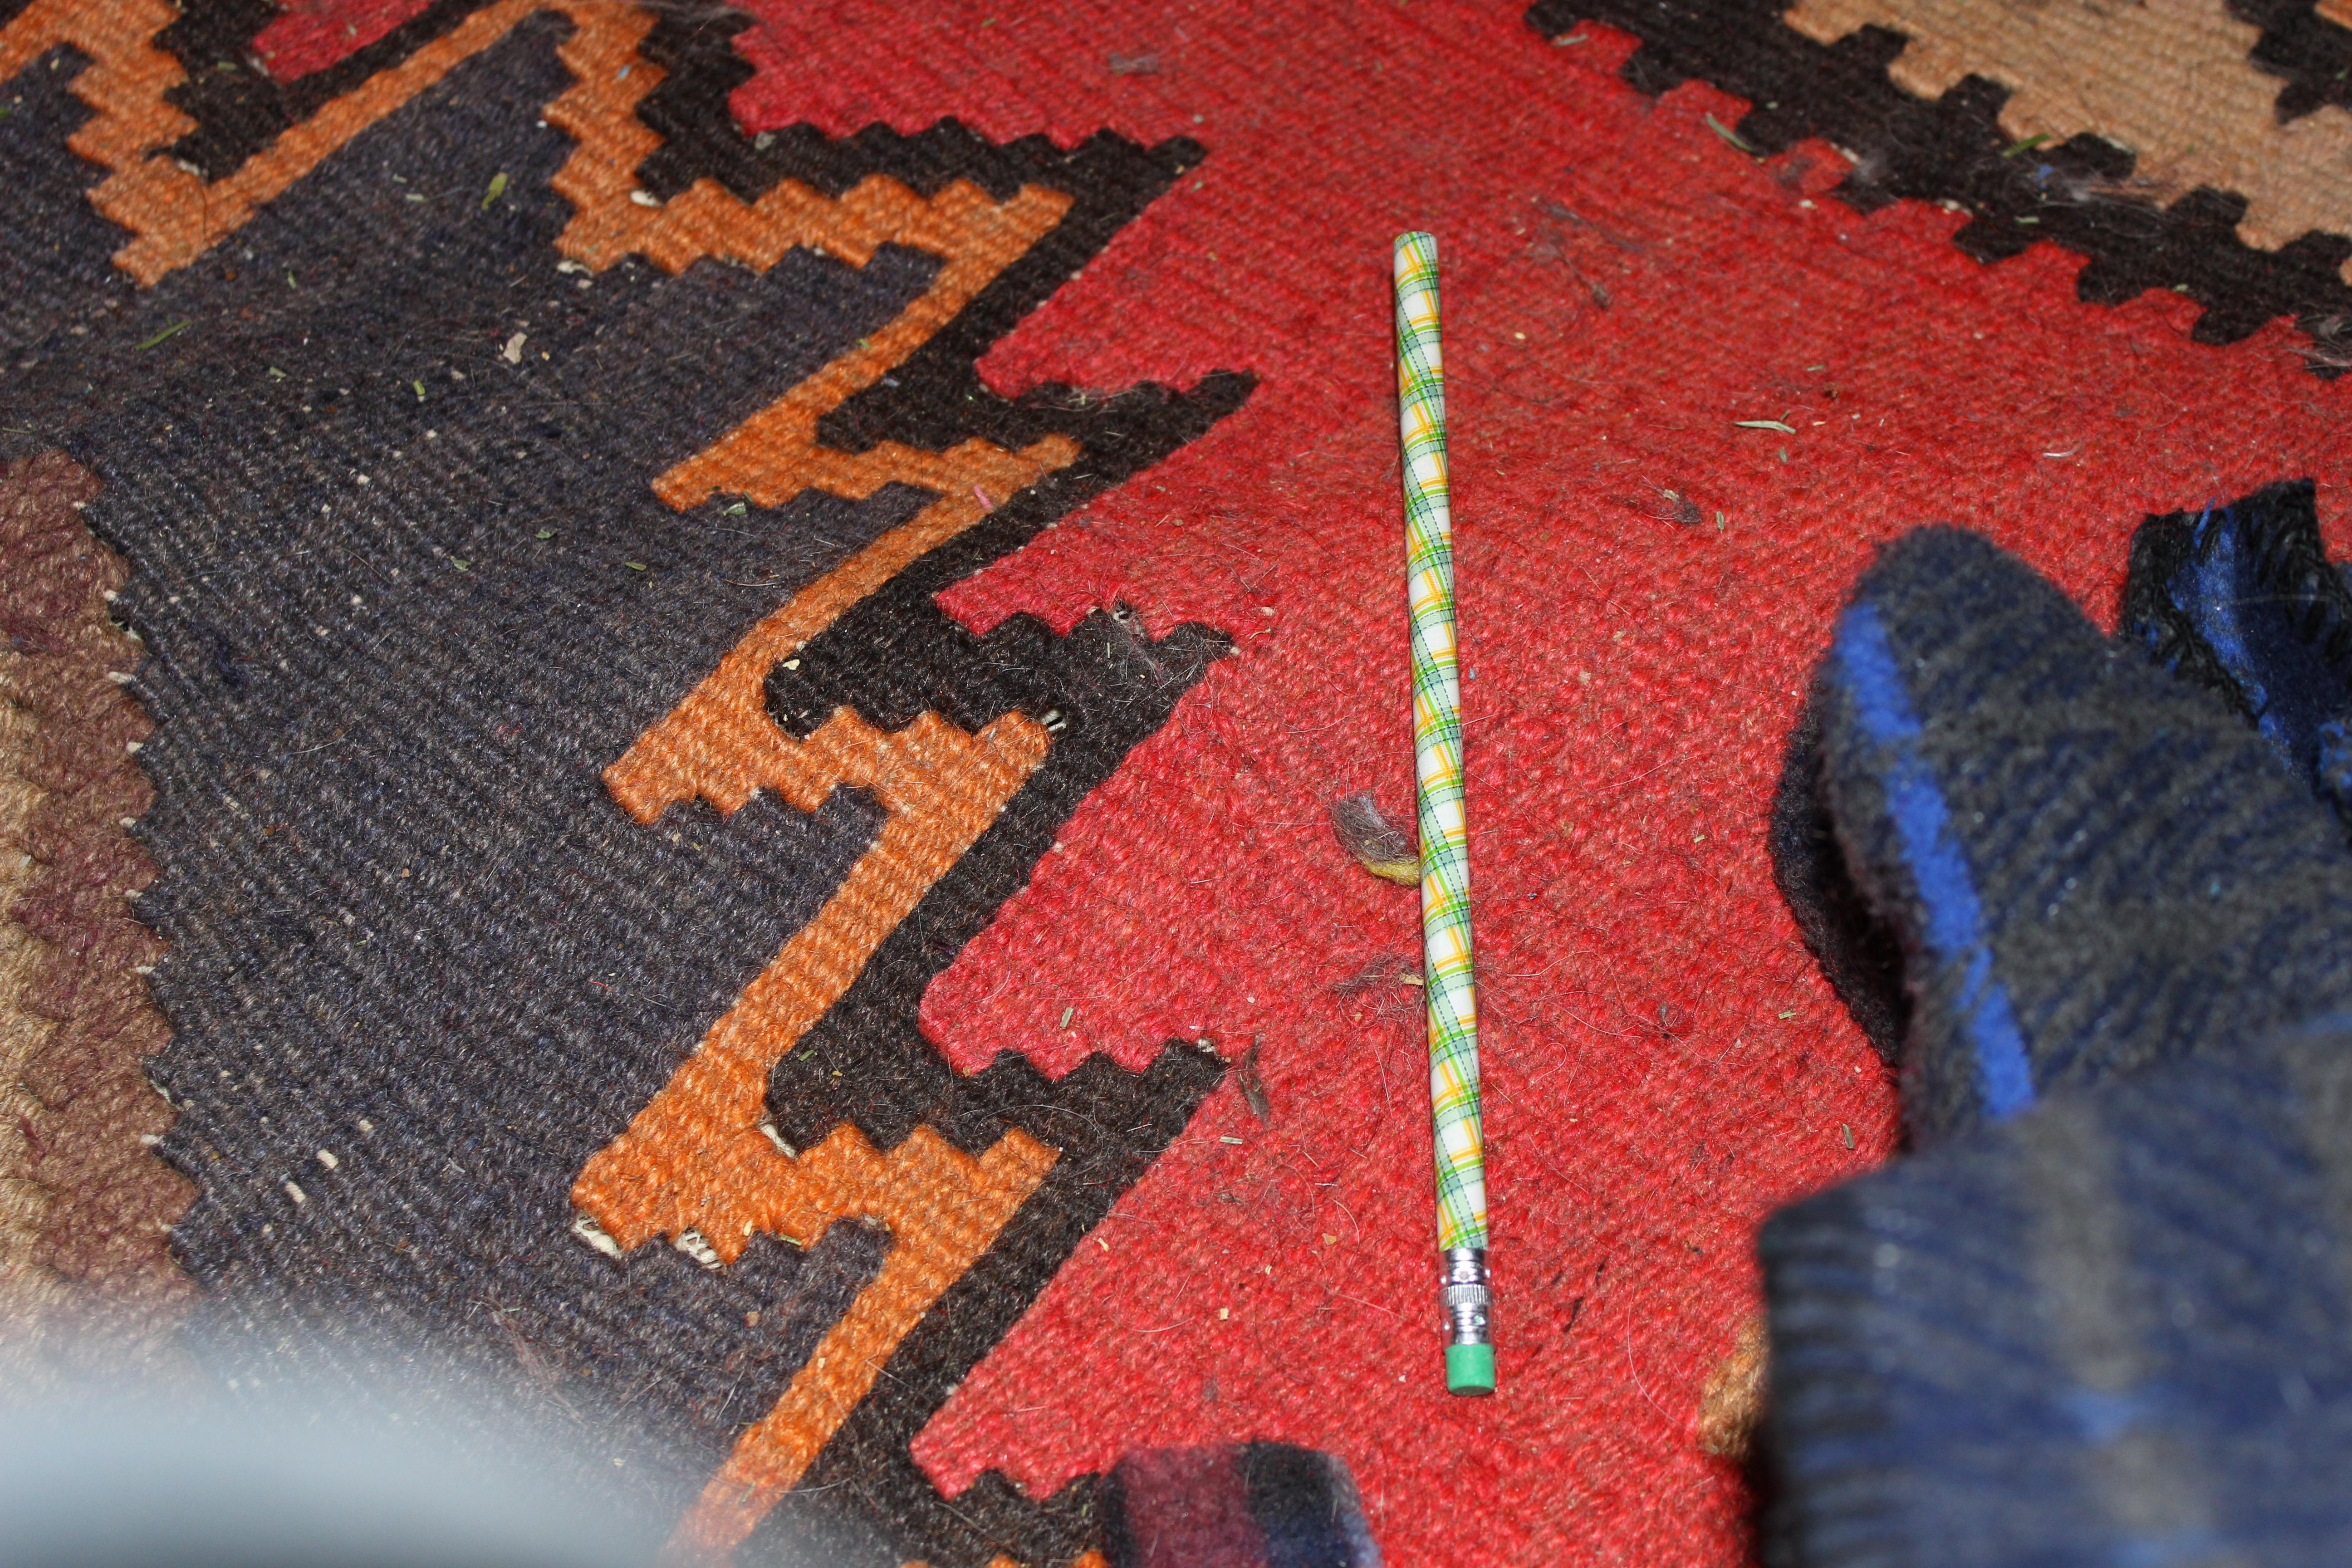plaidPencil: (1351, 208, 1549, 1419)
